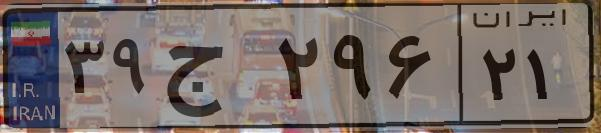1: (525, 38, 570, 115)
2: (270, 28, 330, 110), (475, 38, 525, 113)
3: (57, 26, 110, 100)
6: (385, 28, 445, 110)
9: (330, 28, 385, 110), (110, 28, 158, 98)
ج: (158, 20, 270, 120)
